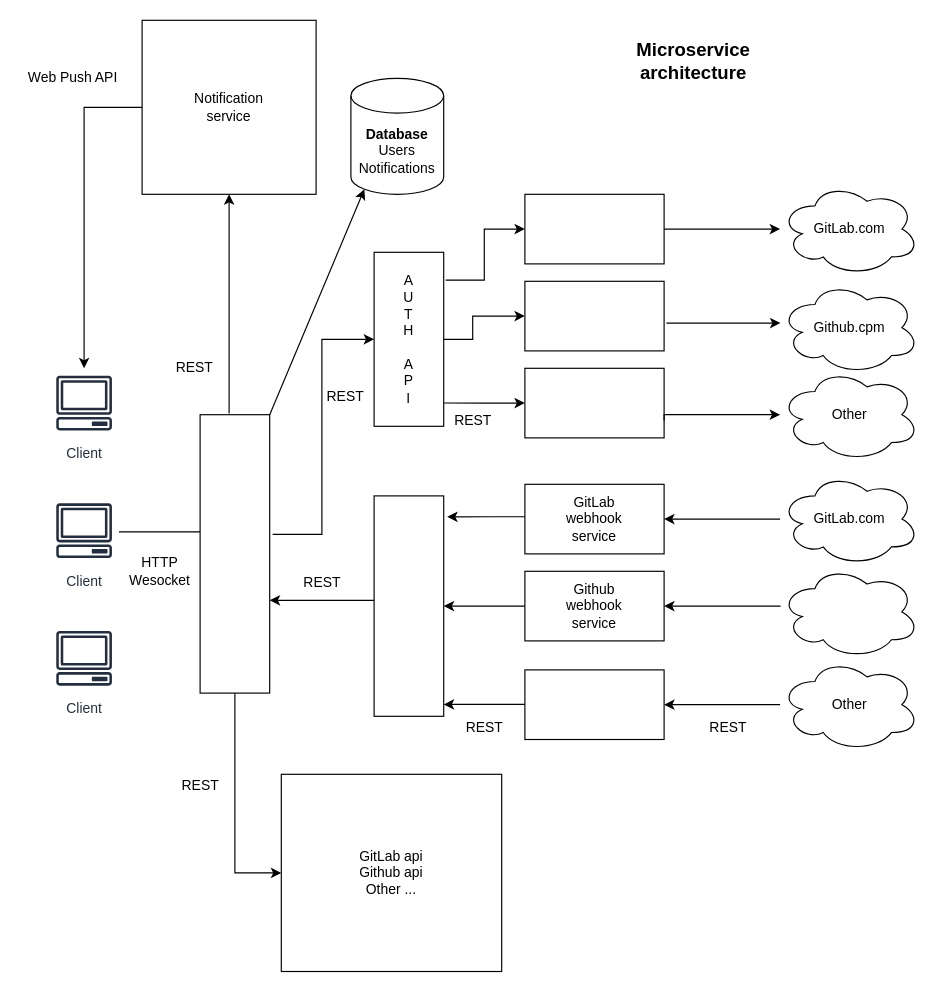
Image size: 940x992. Some labels were removed from this diagram. The shapes that lost their labels are listed below. From the top down, each one's centre as x and y in pixels, then its label:
the point at 594,228: GitLab Oauth service
the point at 594,315: Github Oauth service
the point at 594,402: Other Oauth service .....
the point at 234,553: A P P L I C A T I O N A P I
the point at 408,605: W E B H O O K A P I
the point at 849,611: Github.com
the point at 594,704: Other webhook service .....
